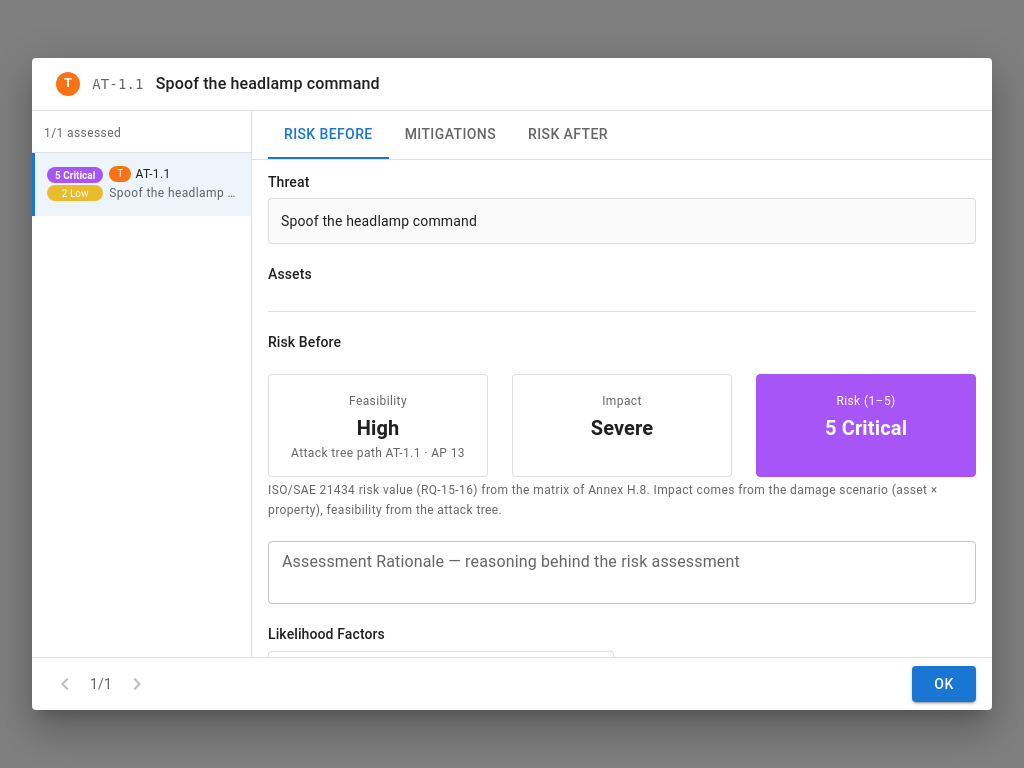
risk dialog — ISO Risk Before / After › after, factor breakdown: no residual-level select, a stored level is named
Step 1. Click the tab "Risk After" → (568, 135), box x1=512 y1=111 x2=624 y2=159
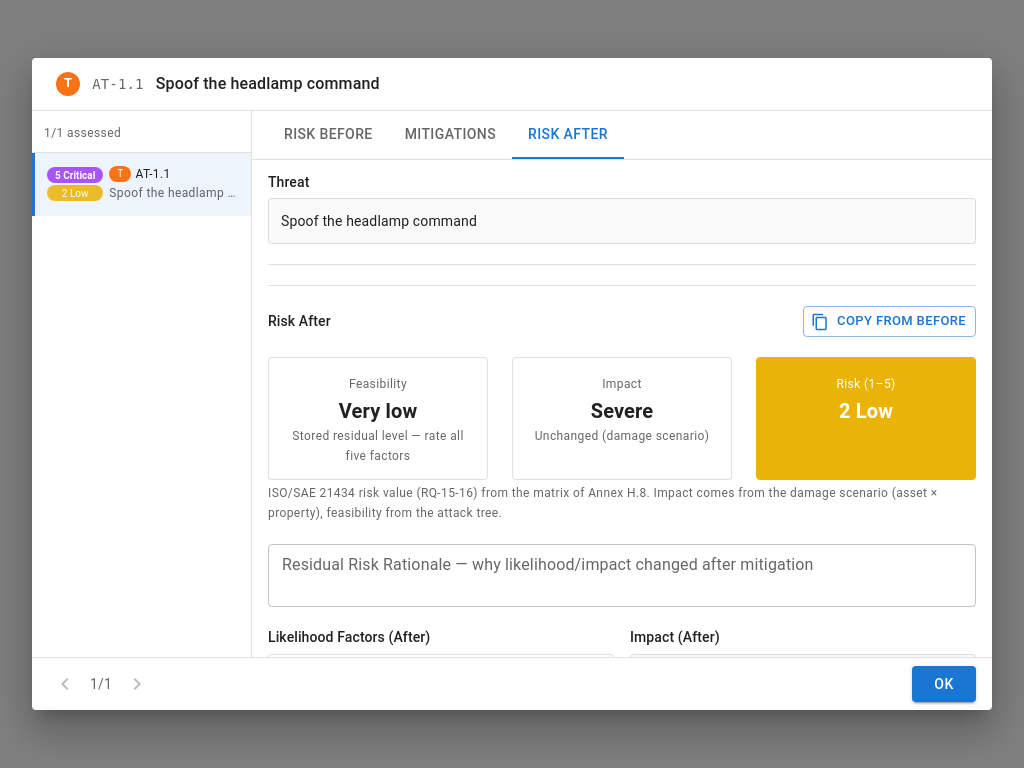
Expected: the text with test id "iso-risk-panel-after-feasibility-note" reads "Stored residual level — rate all five factors", x1=292 y1=429 x2=464 y2=463
Expected: the element with test id "iso-risk-panel-after" shows "Very low", x1=339 y1=399 x2=417 y2=423
